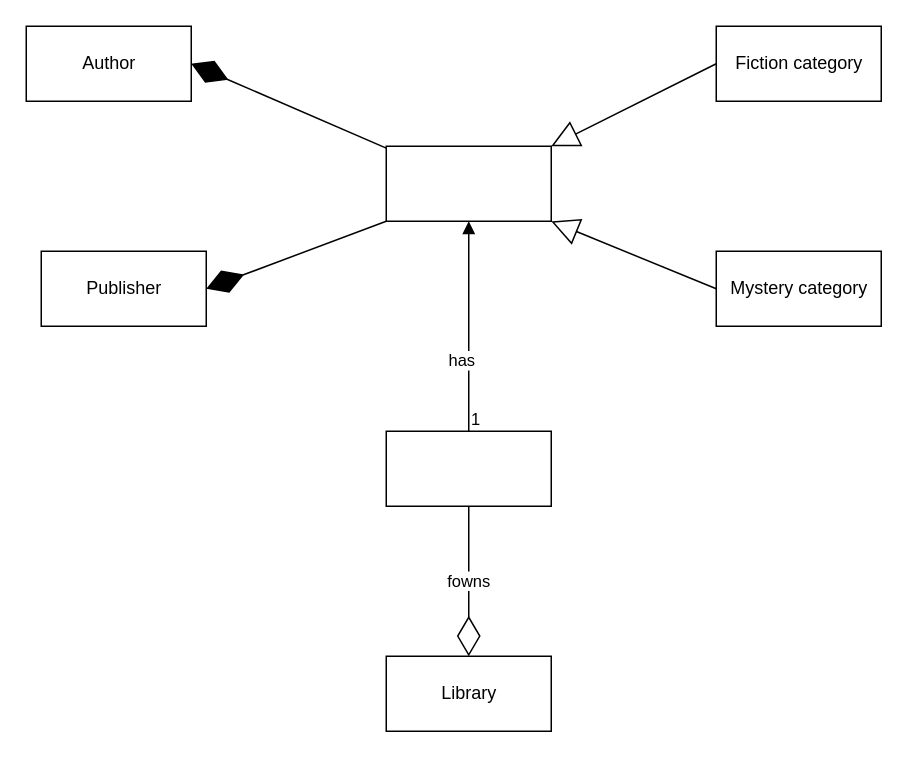
This 908x758 diagram has some shape labels left out. Each missing label, with the centre of its shape:
"Book" goes at [468,183].
"Owner" goes at [468,468].
